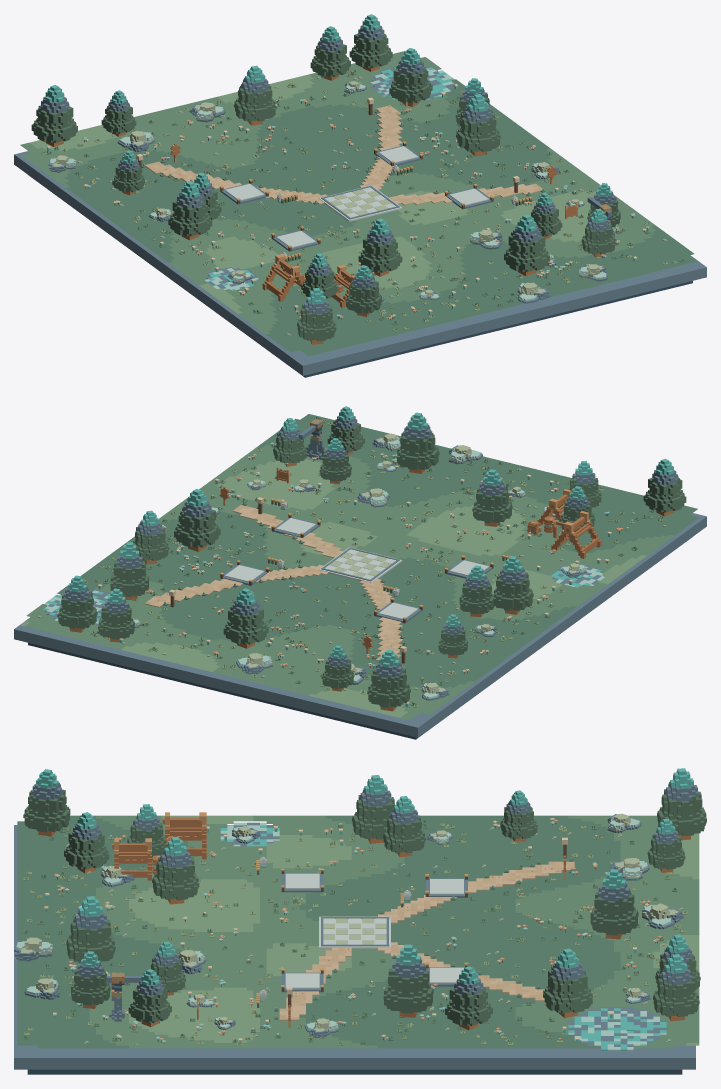
The model's file is defense_polluted.glb.
3 views of the same model, one above another, from view 1: azimuth 30°, elevation 25°; view 2: azimuth 150°, elevation 25°; view 3: azimuth 270°, elevation 25° (orthographic). The views are drawn at different scales.
Visible parts, largest first — view 1: defense_ground, defense_occluders; view 2: defense_ground, defense_occluders; view 3: defense_ground, defense_occluders.
Part boxes in pixels (x1,y1,x2,y2): defense_ground: (14, 51, 706, 377); defense_occluders: (31, 14, 620, 344); defense_ground: (14, 414, 706, 739); defense_occluders: (57, 406, 686, 711); defense_ground: (14, 815, 699, 1074); defense_occluders: (14, 768, 706, 1030).
Bounding box in the file's own units: 42.25 × 9 × 52.85.
